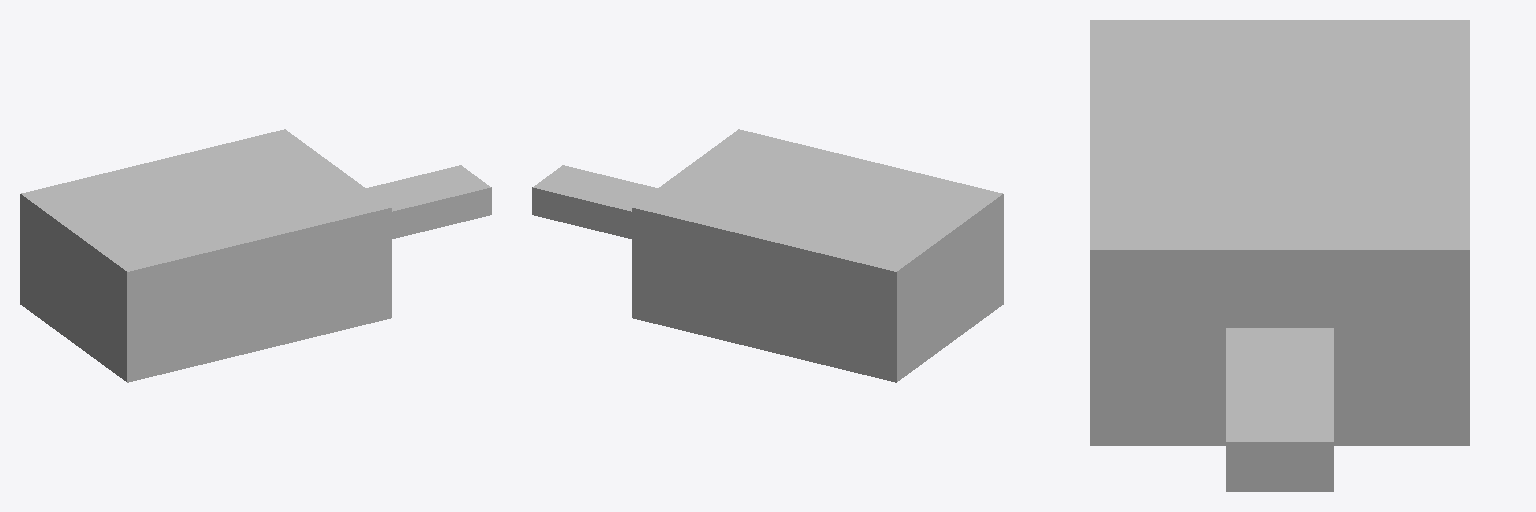
URDF robot description (testbot):
<?xml version="1.0"?>
<robot name="testbot">
  <link name="body">
    <visual>
      <geometry>
        <box size="1 0.7 0.4" />
      </geometry>
      <origin xyz="0 0 0" rpy="0 0 0" />
      <material name="default_material">
        <color rgba="0.8 0.8 0.8 1.0" />
      </material>
    </visual>
    <collision>
      <geometry>
        <box size="1 0.7 0.4" />
      </geometry>
      <origin xyz="0 0 0" rpy="0 0 0" />
    </collision>
    <inertial>
      <mass value="10" />
      <origin xyz="0 0 0" rpy="0 0 0" />
      <inertia ixx="0.5416666666666666" ixy="0" ixz="0" iyy="0.9666666666666668" iyz="0" izz="1.2416666666666667" />
    </inertial>
  </link>
  <link name="arm1">
    <visual>
      <geometry>
        <box size="0.5 0.2 0.1" />
      </geometry>
      <origin xyz="0.27 0.0 0.0" rpy="0 0 0" />
      <material name="default_material">
        <color rgba="0.8 0.8 0.8 1.0" />
      </material>
    </visual>
    <collision>
      <geometry>
        <box size="0.5 0.2 0.1" />
      </geometry>
      <origin xyz="0.27 0.0 0.0" rpy="0 0 0" />
    </collision>
    <inertial>
      <mass value="2" />
      <origin xyz="0.27 0.0 0.0" rpy="0 0 0" />
      <inertia ixx="0.008333333333333335" ixy="0" ixz="0" iyy="0.043333333333333335" iyz="0" izz="0.04833333333333334" />
    </inertial>
  </link>
  <joint name="shoulder1" type="revolute">
    <parent link="body" />
    <child link="arm1" />
    <axis xyz="0 1 0" />
    <limit lower="-2.199114857512855" upper="2.199114857512855" effort="1000.0" velocity="1.0" />
    <origin xyz="0.5 0 0" rpy="0 0 0" />
  </joint>
</robot>

--- Facts derived from the render (not from the file) ---
3 views of the same robot in one strip: view 1: azimuth 30°, elevation 25°; view 2: azimuth 150°, elevation 25°; view 3: azimuth 270°, elevation 25° (orthographic).
Model testbot with 2 links and 1 joints (1 revolute), rooted at body, posed every joint at zero.
Links seen in each view (by area): view 1: body, arm1; view 2: body, arm1; view 3: body, arm1.
Boxes of the visible links, <box> form: body: <box>20,129,391,382</box>; arm1: <box>366,165,491,238</box>; body: <box>632,129,1003,382</box>; arm1: <box>532,165,657,238</box>; body: <box>1090,20,1469,445</box>; arm1: <box>1226,328,1333,491</box>.
Size in the robot's own frame: 1.52 by 0.7 by 0.4 metres.
Geometry: primitives only (box / cylinder / sphere), no mesh files.